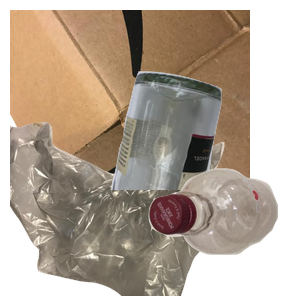cardboard: (10, 10, 250, 190)
glass: (109, 69, 300, 249)
plastic: (146, 166, 300, 300)
trash: (10, 120, 231, 300)
